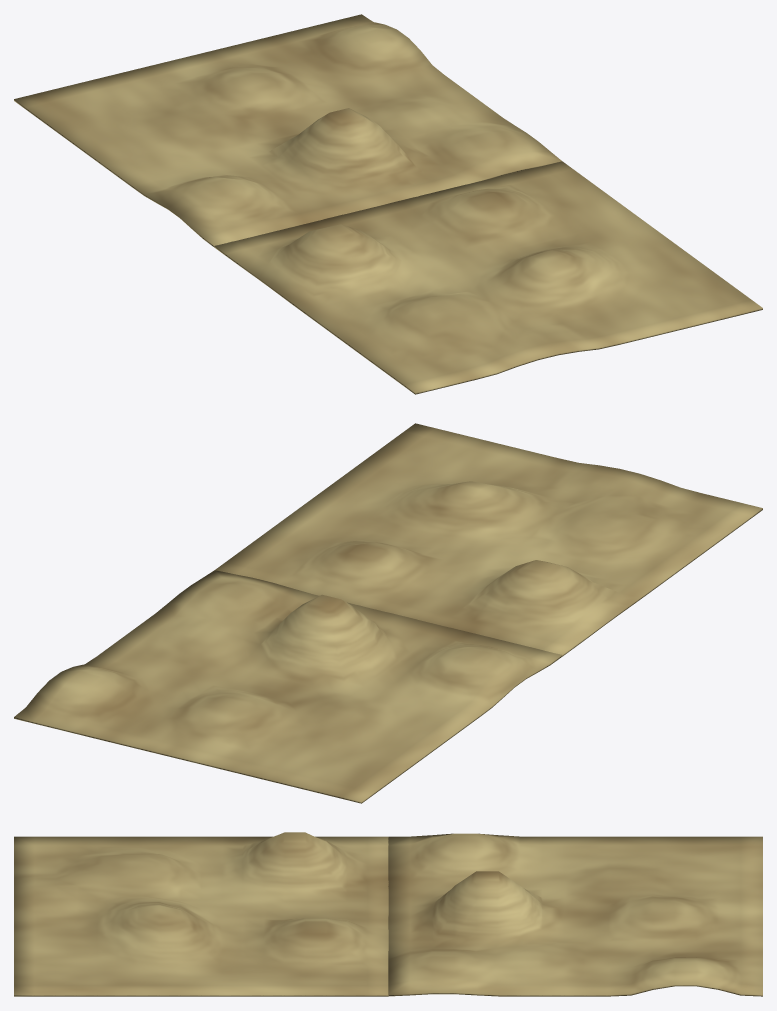
File: deadGrass.fbx
The picture shows the model from 3 angles, top to bottom: view 1: azimuth 30°, elevation 25°; view 2: azimuth 150°, elevation 25°; view 3: azimuth 270°, elevation 25°; orthographic projection. The views are drawn at different scales.
Visible parts, largest first — view 1: deadGRassBlock; view 2: deadGRassBlock; view 3: deadGRassBlock.
Boxes of the visible parts, x1,y1,x2,y2 form: deadGRassBlock: (14,14,762,394); deadGRassBlock: (14,423,762,803); deadGRassBlock: (14,832,762,996).
Size of the model in its own units: 654 by 89.09 by 1308.
